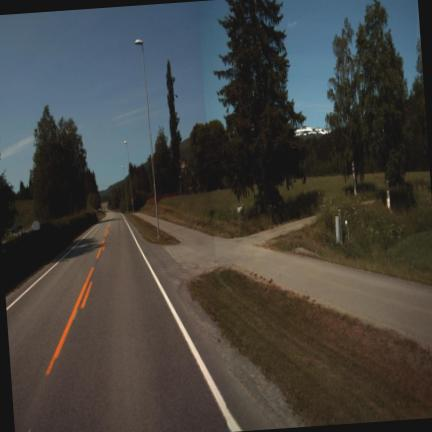Road: (6, 212, 236, 431)
